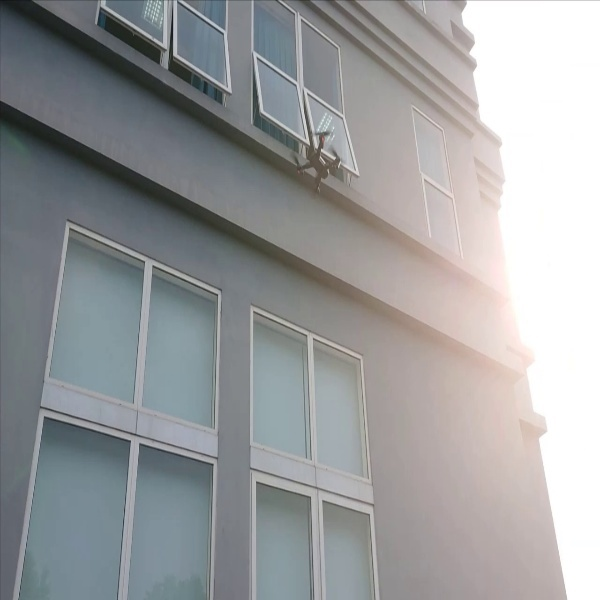drone: (292, 128, 350, 196)
